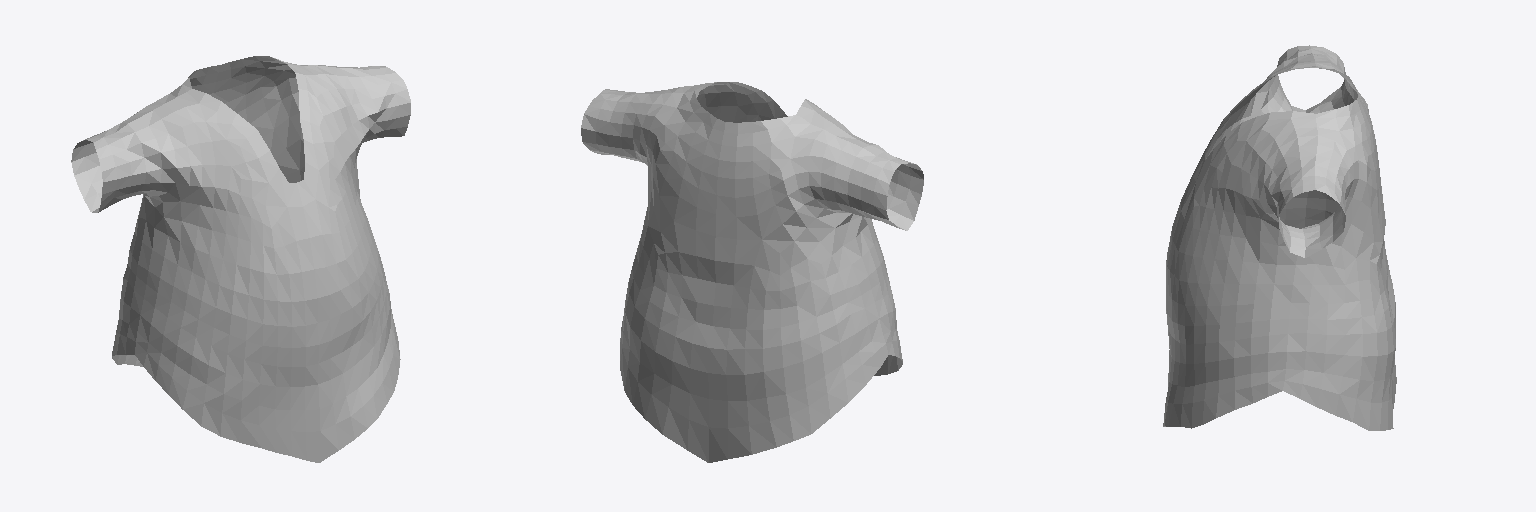
The model's file is longShirt_low.obj.
3 views of the same model, side by side, from view 1: azimuth 30°, elevation 25°; view 2: azimuth 150°, elevation 25°; view 3: azimuth 270°, elevation 25° (orthographic).
Visible parts, largest first — view 1: polySurface1; view 2: polySurface1; view 3: polySurface1.
Boxes of the visible parts, x1,y1,x2,y2 form: polySurface1: [71, 56, 410, 462]; polySurface1: [581, 82, 923, 462]; polySurface1: [1163, 45, 1396, 430].
Bounding box in the file's own units: 33.26 × 34.52 × 21.73.